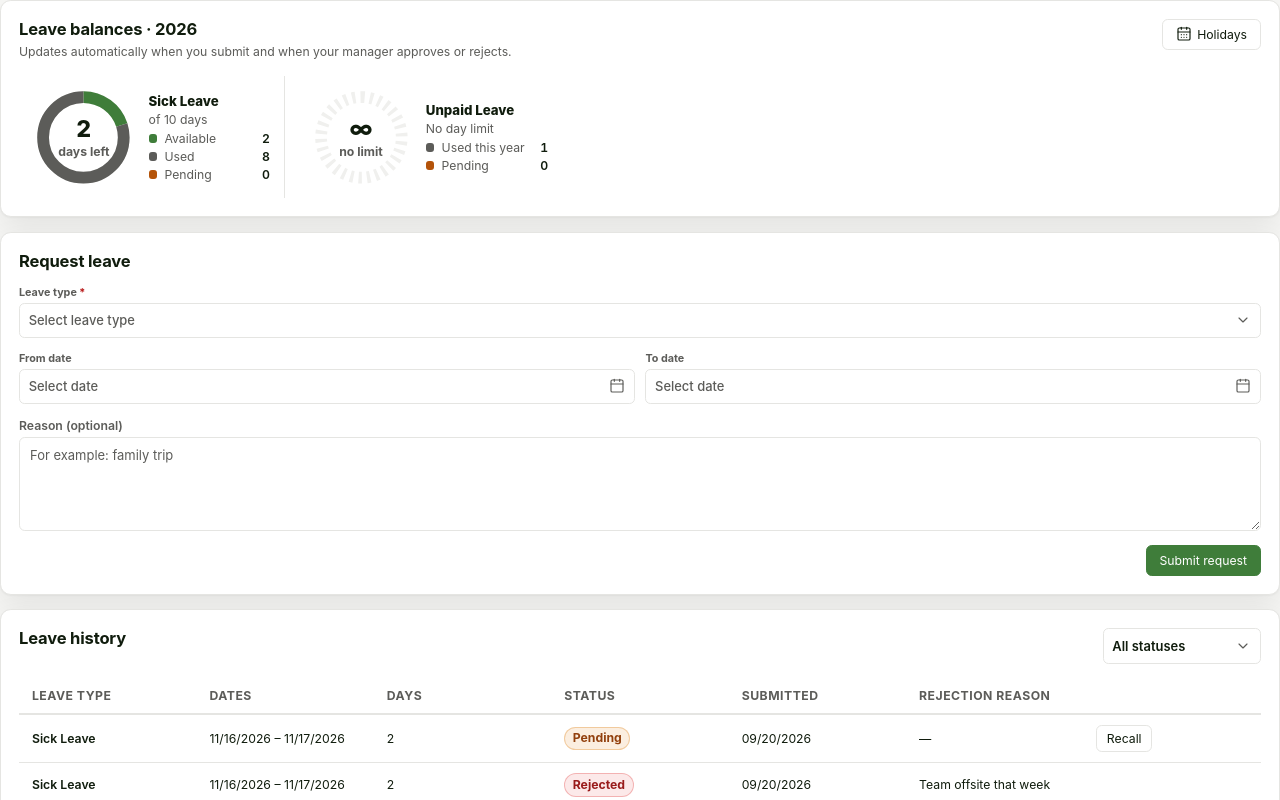
Test: LeavesWorkspace › highlights missing fields instead of submitting
Step 1. Click the button "Submit request" → (1203, 560), box [1146,545,1261,576]
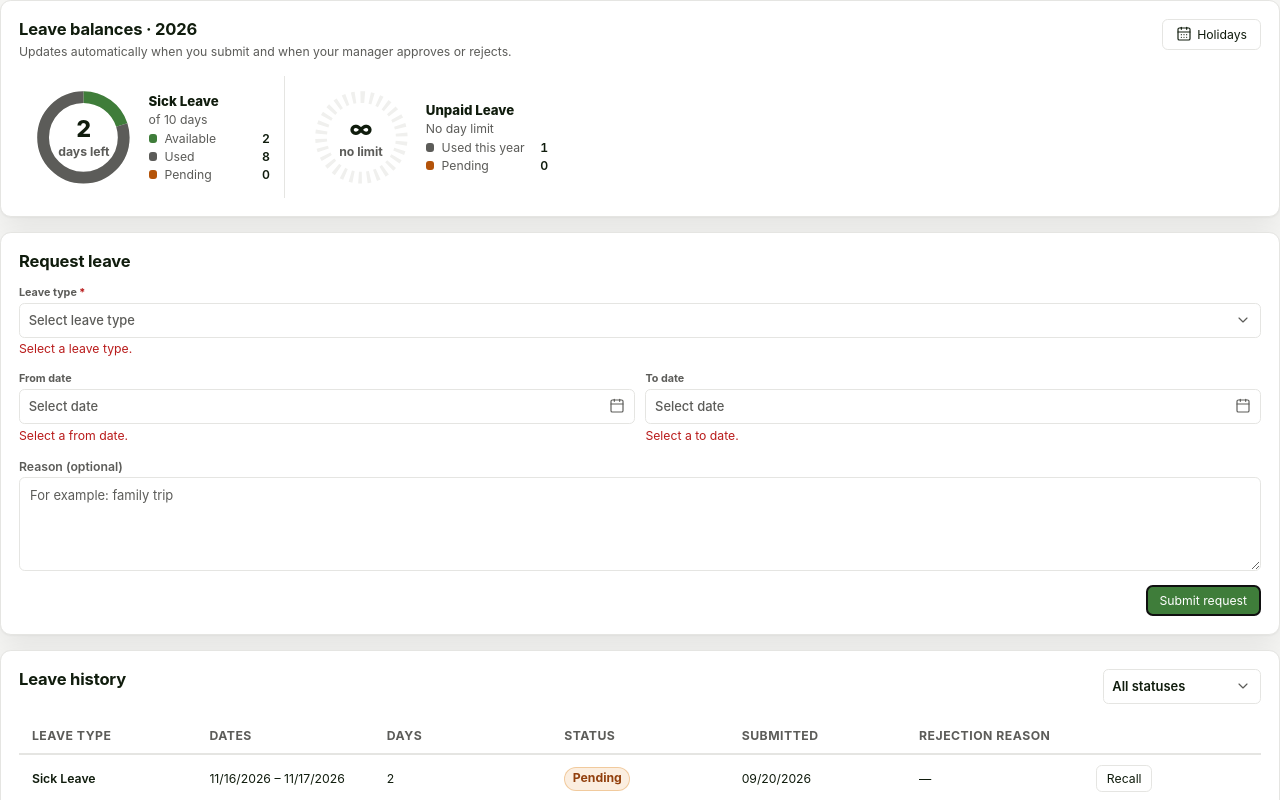
Expected: the text "Select a leave type." is shown, [19,341,132,356]
Expected: the text "Select a from date." is shown, [19,428,128,443]
Expected: the text "Select a to date." is shown, [645,428,739,443]
